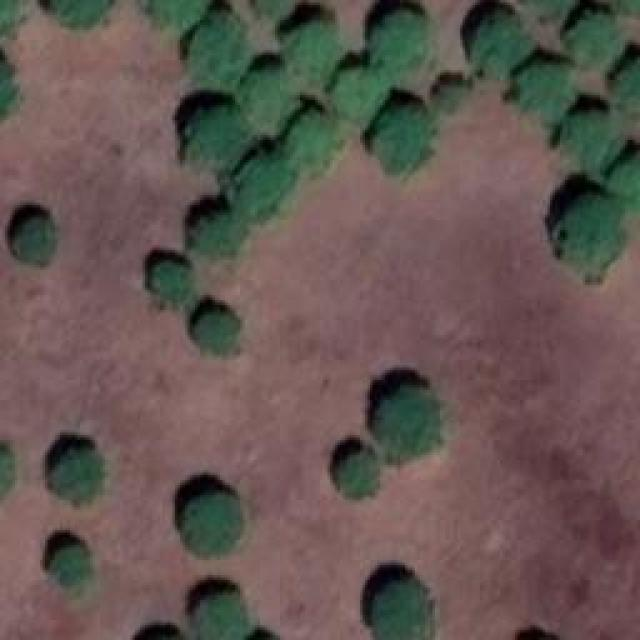Tree: (190, 13, 250, 86), (378, 388, 438, 461), (565, 198, 623, 273), (180, 108, 245, 168), (375, 110, 433, 170), (235, 158, 290, 218), (470, 15, 528, 70), (183, 495, 238, 553), (375, 582, 430, 640), (285, 23, 343, 76), (373, 13, 428, 68), (563, 113, 618, 168), (243, 70, 293, 128), (522, 62, 570, 120), (190, 592, 248, 640), (335, 70, 385, 123), (288, 112, 331, 170), (52, 450, 100, 500), (572, 15, 620, 60), (195, 218, 245, 253), (153, 263, 193, 306), (18, 215, 53, 263), (50, 547, 90, 585), (340, 450, 375, 493), (612, 158, 640, 208), (55, 0, 110, 25), (197, 315, 235, 350), (150, 0, 200, 25), (617, 62, 640, 109), (440, 85, 465, 108)
